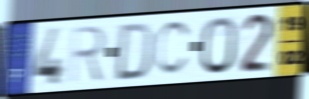2: (239, 11, 276, 75)
4: (31, 25, 67, 88)
C: (154, 18, 193, 78)
D: (112, 20, 157, 83)
O: (200, 15, 239, 76)
R: (68, 23, 108, 86)
